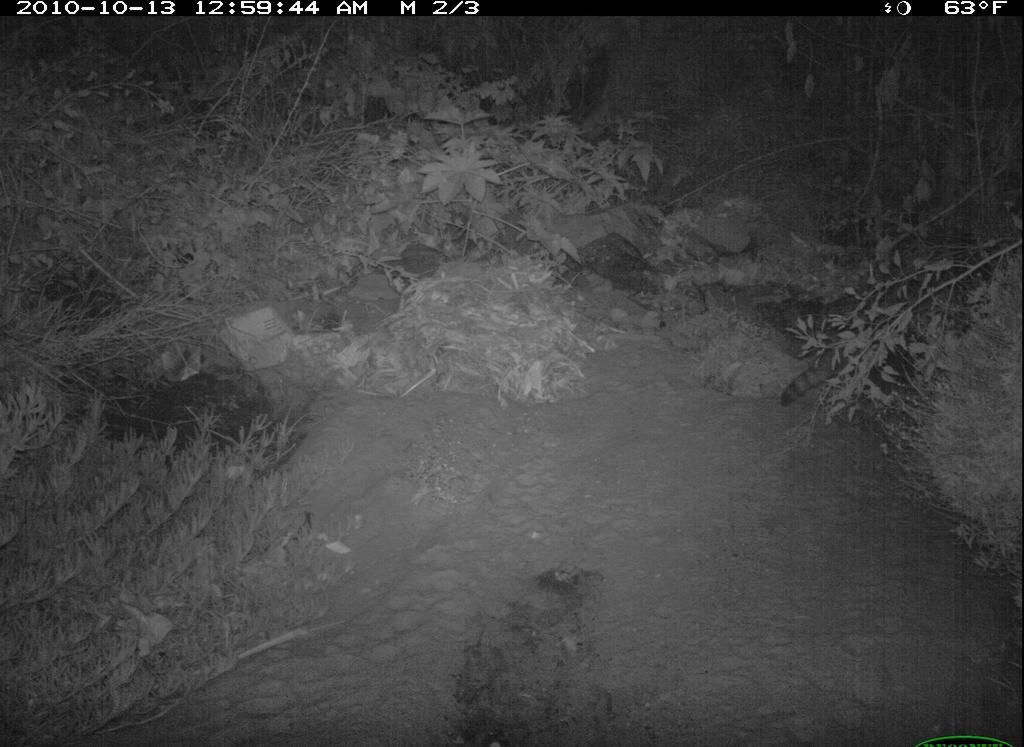raccoon: (777, 315, 937, 411)
